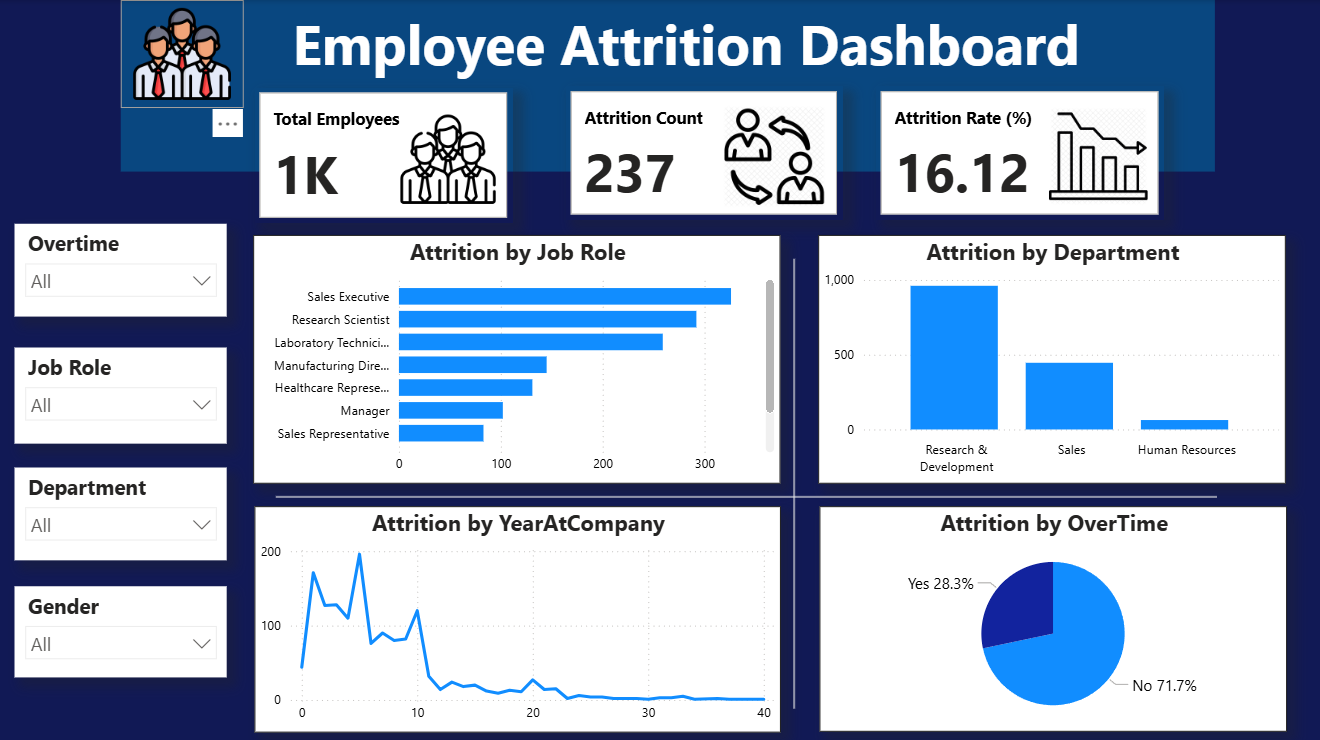

Layout of this report page (visuals, bound fields, positions):
{"tool":"powerbi","page":{"name":"Attrition Overview","canvas":[1280,720],"ordinal":0},"visuals":[{"type":"textbox","box":[119.7,0,1056.1,165.9],"z":0},{"type":"image","box":[119.7,0,118.3,103.9],"z":1000},{"type":"cardVisual","fields":{"Data":["Sum(WA_Fn-UseC_-HR-Employee-Attrition.EmployeeCount)"]},"box":[248.5,84.5,249.7,131.5],"z":2000},{"type":"cardVisual","fields":{"Data":["WA_Fn-UseC_-HR-Employee-Attrition.Attrition Count"]},"box":[548.9,83.2,267.8,129.1],"z":3000},{"type":"cardVisual","fields":{"Data":["WA_Fn-UseC_-HR-Employee-Attrition.Attrition Rate (%)"]},"box":[848.1,83.2,278.7,129.1],"z":4000},{"type":"slicer","title":"Gender","fields":{"Values":["WA_Fn-UseC_-HR-Employee-Attrition.Gender"]},"box":[16.9,565.8,205.1,88.1],"z":5000},{"type":"slicer","title":"Gender","fields":{"Values":["WA_Fn-UseC_-HR-Employee-Attrition.Department"]},"box":[16.9,451.2,205.1,89.3],"z":6000},{"type":"slicer","title":"Gender","fields":{"Values":["WA_Fn-UseC_-HR-Employee-Attrition.OverTime"]},"box":[16.9,216,205.1,89.3],"z":7000},{"type":"columnChart","title":"Attrition by Department","fields":{"Category":["WA_Fn-UseC_-HR-Employee-Attrition.Department"],"Y":["CountNonNull(WA_Fn-UseC_-HR-Employee-Attrition.Attrition)"]},"box":[792.6,226.8,451.2,240.1],"z":8000},{"type":"barChart","title":"Attrition by Job Role","fields":{"Category":["WA_Fn-UseC_-HR-Employee-Attrition.JobRole"],"Y":["CountNonNull(WA_Fn-UseC_-HR-Employee-Attrition.Attrition)"]},"box":[247.3,226.8,509.1,240.1],"z":9000},{"type":"pieChart","title":"Attrition by OverTime","fields":{"Y":["CountNonNull(WA_Fn-UseC_-HR-Employee-Attrition.Attrition)"],"Category":["WA_Fn-UseC_-HR-Employee-Attrition.OverTime"]},"box":[793.5,489.1,451.6,217.9],"z":10000},{"type":"lineChart","title":"Attrition by YearAtCompany","fields":{"Category":["WA_Fn-UseC_-HR-Employee-Attrition.YearsAtCompany"],"Y":["CountNonNull(WA_Fn-UseC_-HR-Employee-Attrition.Attrition)"]},"box":[248.5,488.6,507.9,218.4],"z":11000},{"type":"slicer","title":"Gender","fields":{"Values":["WA_Fn-UseC_-HR-Employee-Attrition.JobRole"]},"box":[16.9,335.4,205.1,92.9],"z":12000},{"type":"shape","box":[269,451.2,908.4,56.7],"z":13000},{"type":"shape","box":[745.9,249.6,47.6,434.3],"z":14000}]}

Visuals, with their boxes in screenshot pixels (x1, y1, x2, y2), scaled from the page's 1280x720 canvas onto the 1320x740 screenshot:
textbox: bbox=(123, 0, 1213, 171)
image: bbox=(123, 0, 245, 107)
cardVisual - Sum(WA_Fn-UseC_-HR-Employee-Attrition.EmployeeCount): bbox=(256, 87, 514, 222)
cardVisual - WA_Fn-UseC_-HR-Employee-Attrition.Attrition Count: bbox=(566, 86, 842, 218)
cardVisual - WA_Fn-UseC_-HR-Employee-Attrition.Attrition Rate (%): bbox=(875, 86, 1162, 218)
"Gender" slicer: bbox=(17, 582, 229, 672)
"Gender" slicer: bbox=(17, 464, 229, 556)
"Gender" slicer: bbox=(17, 222, 229, 314)
"Attrition by Department" columnChart: bbox=(817, 233, 1283, 480)
"Attrition by Job Role" barChart: bbox=(255, 233, 780, 480)
"Attrition by OverTime" pieChart: bbox=(818, 503, 1284, 727)
"Attrition by YearAtCompany" lineChart: bbox=(256, 502, 780, 727)
"Gender" slicer: bbox=(17, 345, 229, 440)
shape: bbox=(277, 464, 1214, 522)
shape: bbox=(769, 257, 818, 703)
